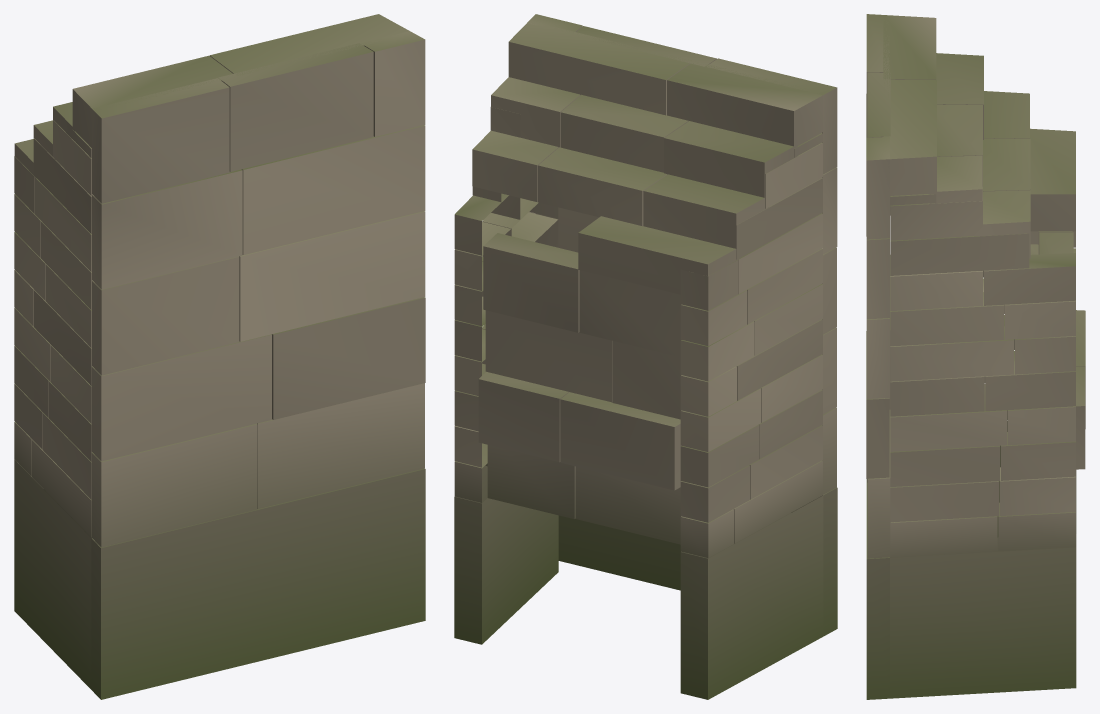
The model's file is arena_seats_broken_b_mid.glb.
3 renders of one model, left to right at view 1: azimuth 30°, elevation 25°; view 2: azimuth 150°, elevation 25°; view 3: azimuth 270°, elevation 25°, orthographic. The views are drawn at different scales.
Parts seen in each view (by area): view 1: arena_seats_broken_b_mid; view 2: arena_seats_broken_b_mid; view 3: arena_seats_broken_b_mid.
Boxes of the visible parts, <box> form: arena_seats_broken_b_mid: <box>14,14,425,699</box>; arena_seats_broken_b_mid: <box>454,14,837,699</box>; arena_seats_broken_b_mid: <box>866,14,1085,699</box>.
Bounding box in the file's own units: 13.43 × 22.99 × 8.48.
